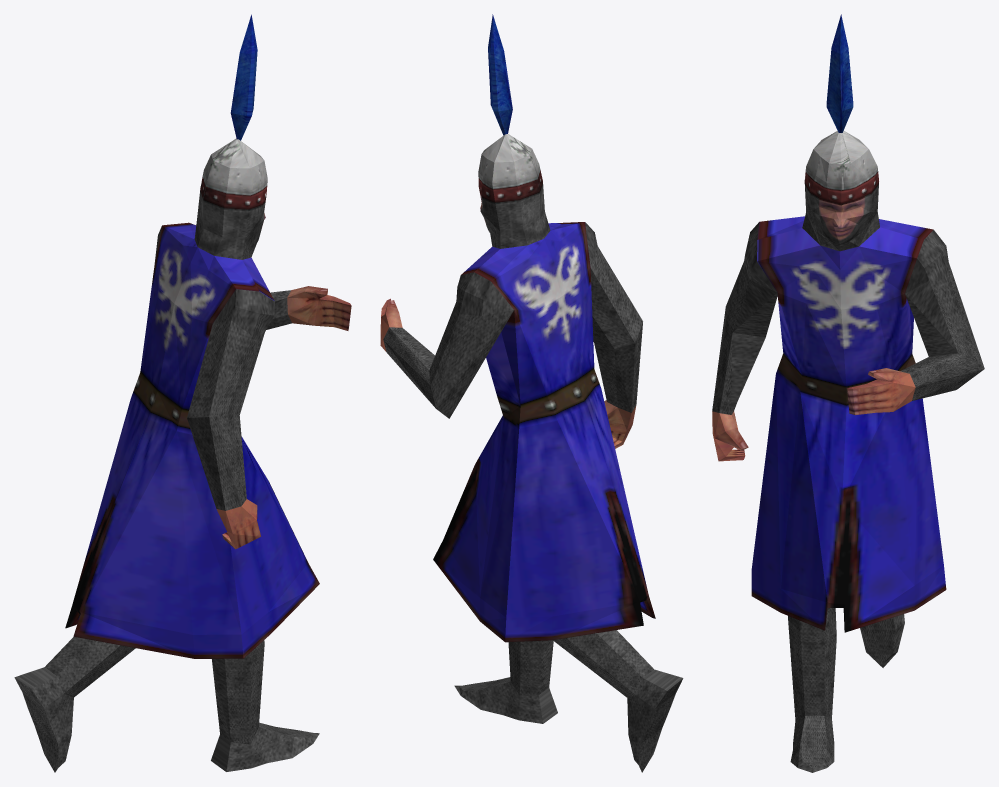
File: guard_run2.obj
The picture shows the model from 3 angles, left to right: view 1: azimuth 30°, elevation 25°; view 2: azimuth 150°, elevation 25°; view 3: azimuth 270°, elevation 25°; orthographic projection. The views are drawn at different scales.
Visible parts, largest first — view 1: Object_1; view 2: Object_1; view 3: Object_1.
Part boxes in pixels (x1=…): Object_1: x1=14, y1=14, x2=351, y2=772; Object_1: x1=380, y1=14, x2=683, y2=772; Object_1: x1=712, y1=14, x2=984, y2=772.
Bounding box in the file's own units: 0.9698 × 2.16 × 0.7201.
1 material, 1 textured.
